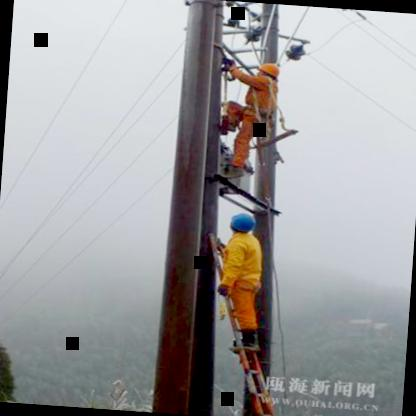helmet: (228, 212, 258, 239), (256, 60, 283, 86)
